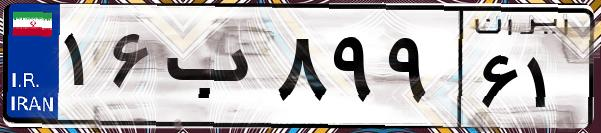1: (57, 26, 110, 100), (525, 38, 570, 115)
6: (475, 38, 525, 113), (110, 28, 158, 98)
8: (270, 28, 330, 110)
9: (385, 28, 445, 110), (330, 28, 385, 110)
ب: (158, 20, 270, 120)
